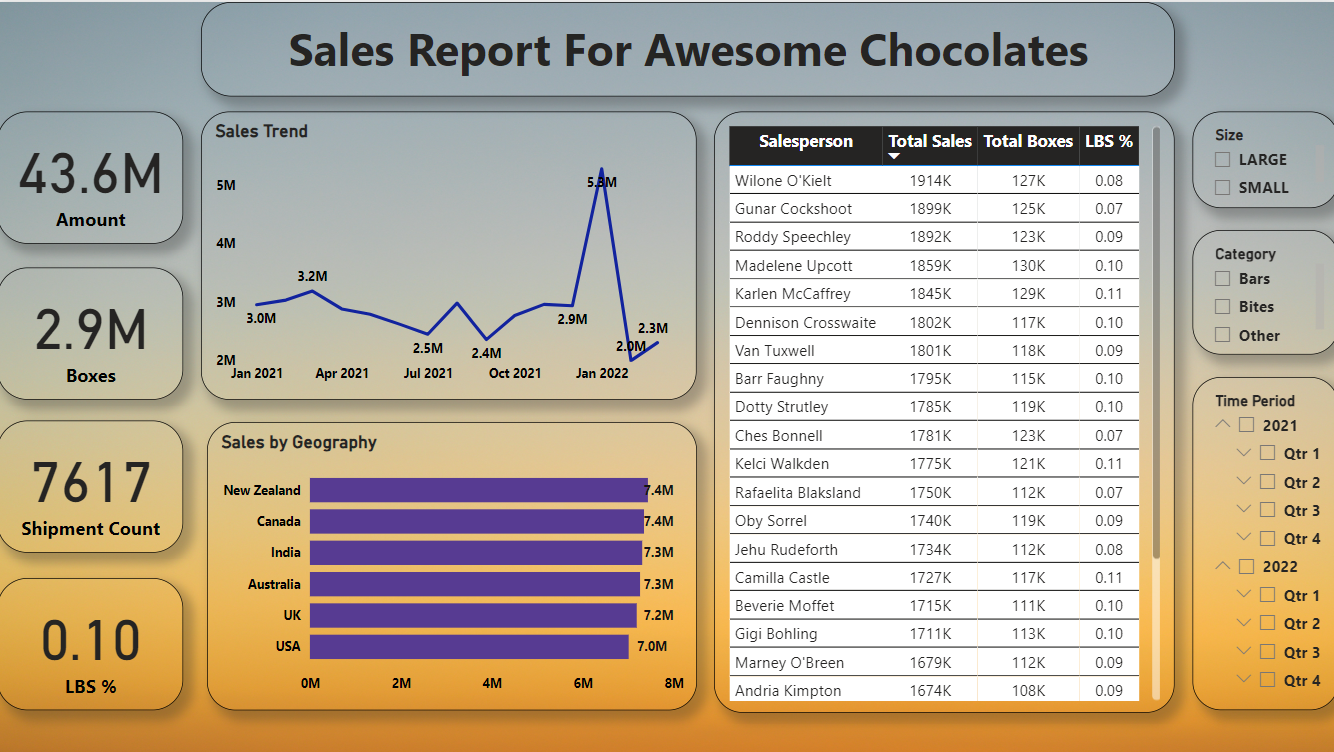

What the dashboard file says about the page in this screenshot:
{"tool":"powerbi","page":{"name":"Report","canvas":[1280,720],"ordinal":0},"visuals":[{"type":"textbox","box":[197.1,0,927.1,90],"z":0},{"type":"card","fields":{"Values":["sales aws.Amount"]},"box":[2.4,103.9,177.1,125.7],"z":4},{"type":"card","fields":{"Values":["sales aws.Boxes"]},"box":[2.4,252.5,177.1,125.7],"z":5},{"type":"card","fields":{"Values":["Geo.Shipment Count"]},"box":[2.4,398.5,177.1,125.7],"z":6},{"type":"card","fields":{"Values":["sales aws.LBS %"]},"box":[2.4,548.6,177.1,125.7],"z":7},{"type":"lineChart","title":"Sales Trend","fields":{"Y":["Geo.Total Sales"],"Category":["sales aws.SaleDate.Variation.Date Hierarchy.Year","sales aws.SaleDate.Variation.Date Hierarchy.Quarter","sales aws.SaleDate.Variation.Date Hierarchy.Month"]},"box":[197,104,471.7,274.4],"z":8},{"type":"barChart","title":"Sales by Geography","fields":{"Category":["Geo.Geo"],"Y":["Geo.Total Sales"]},"box":[202.4,400,466.3,274.4],"z":9},{"type":"tableEx","fields":{"Values":["People.Salesperson","Geo.Total Sales","sales aws.Total Boxes","sales aws.LBS %"]},"box":[685.7,104.3,438.6,572.9],"z":10},{"type":"slicer","fields":{"Values":["Product.Size"]},"box":[1140.8,104.1,139.2,91.9],"z":11},{"type":"slicer","fields":{"Values":["Product.Category"]},"box":[1140.8,217.6,139.2,119],"z":12},{"type":"slicer","fields":{"Values":["sales aws.SaleDate.Variation.Date Hierarchy.Year","sales aws.SaleDate.Variation.Date Hierarchy.Quarter","sales aws.SaleDate.Variation.Date Hierarchy.Month"]},"box":[1140.8,356.9,139.2,317.7],"z":13}]}

Visuals, with their boxes in screenshot pixels (x1, y1, x2, y2), scaled from the page's 1280x720 canvas onto the 1334x752 screenshot:
textbox: select_region(205, 0, 1172, 94)
card - sales aws.Amount: select_region(3, 109, 187, 240)
card - sales aws.Boxes: select_region(3, 264, 187, 395)
card - Geo.Shipment Count: select_region(3, 416, 187, 547)
card - sales aws.LBS %: select_region(3, 573, 187, 704)
"Sales Trend" lineChart: select_region(205, 109, 697, 395)
"Sales by Geography" barChart: select_region(211, 418, 697, 704)
tableEx - People.Salesperson x Geo.Total Sales: select_region(715, 109, 1172, 707)
slicer - Product.Size: select_region(1189, 109, 1333, 205)
slicer - Product.Category: select_region(1189, 227, 1333, 352)
slicer - sales aws.SaleDate.Variation.Date Hierarchy.Year x sales aws.SaleDate.Variation.Date Hierarchy.Quarter: select_region(1189, 373, 1333, 705)
